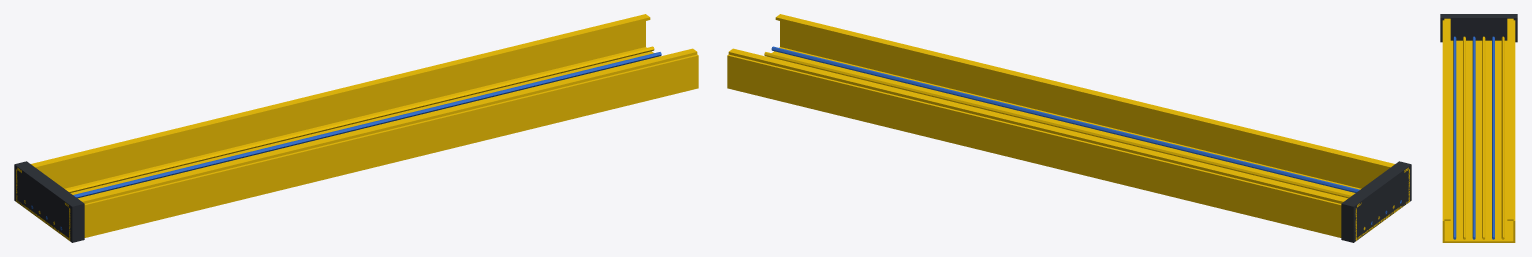
The model's file is 29_Fiber_Runner_Yellow_2m.fbx.
3 views of the same model, side by side, from view 1: azimuth 30°, elevation 25°; view 2: azimuth 150°, elevation 25°; view 3: azimuth 270°, elevation 25° (orthographic). The views are drawn at different scales.
Parts seen in each view (by area): view 1: 29_Fiber_Runner_Yellow_2m; view 2: 29_Fiber_Runner_Yellow_2m; view 3: 29_Fiber_Runner_Yellow_2m.
Part boxes in pixels (x1=…): 29_Fiber_Runner_Yellow_2m: x1=14, y1=14, x2=698, y2=242; 29_Fiber_Runner_Yellow_2m: x1=727, y1=14, x2=1411, y2=242; 29_Fiber_Runner_Yellow_2m: x1=1440, y1=14, x2=1517, y2=242.
Bounding box in the file's own units: 2 × 0.11 × 0.32.
